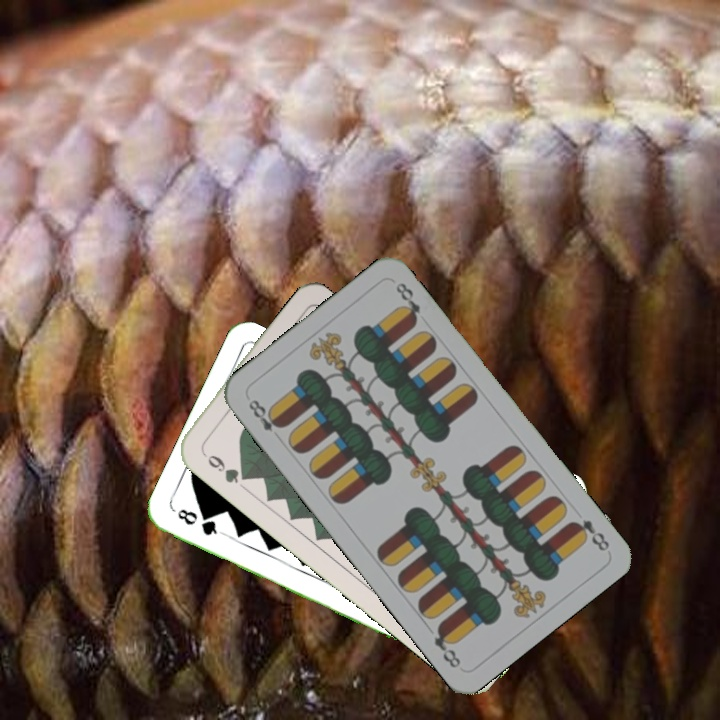E8: (566, 515, 612, 554), (244, 395, 287, 434)
G8: (173, 505, 226, 539)
G9: (197, 447, 252, 486)
